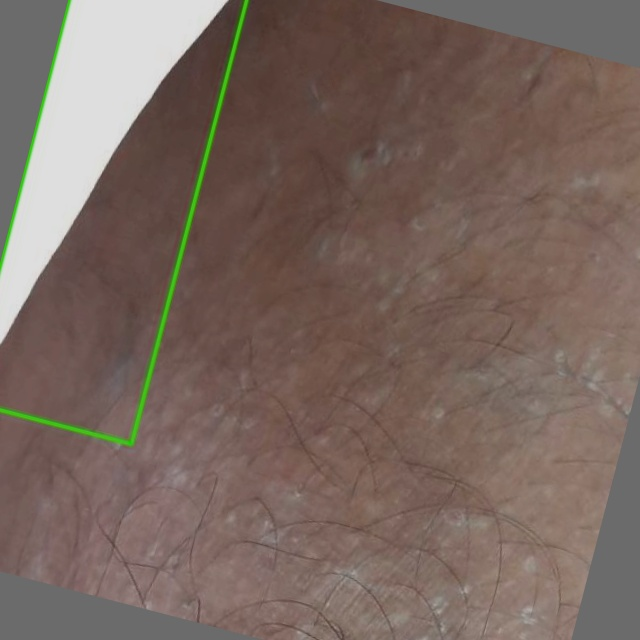Contact Dermatitis: (0, 0, 247, 444)
